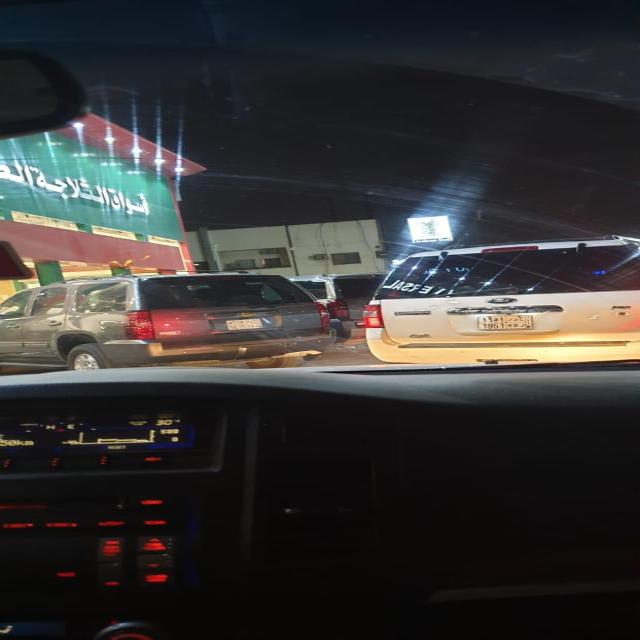license_plate: (475, 315, 533, 329), (224, 318, 262, 330)
